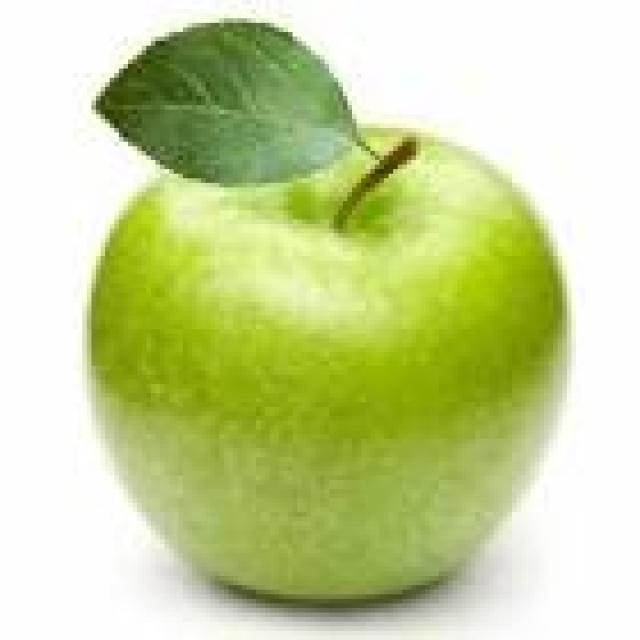apple: (91, 128, 562, 594), (101, 23, 343, 169)
